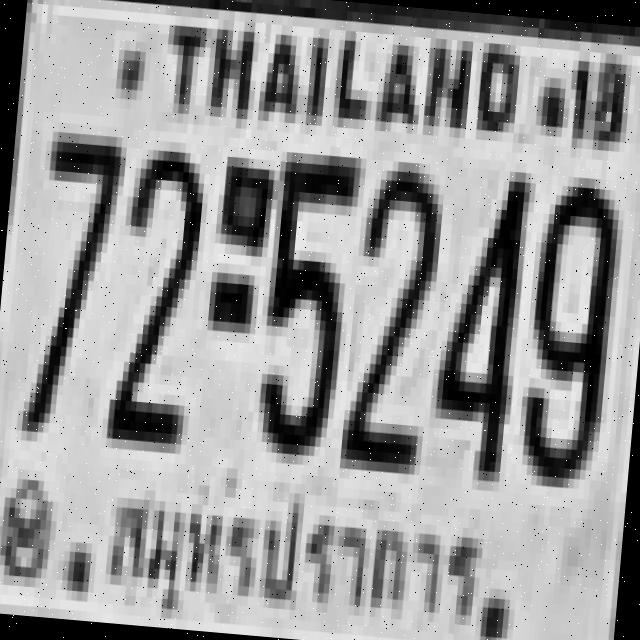2: (104, 138, 204, 444), (340, 158, 440, 464)
4: (425, 156, 526, 472)
5: (250, 142, 356, 448)
7: (19, 120, 120, 437)
9: (516, 164, 617, 480)
SamutPrakan: (95, 472, 494, 640)
